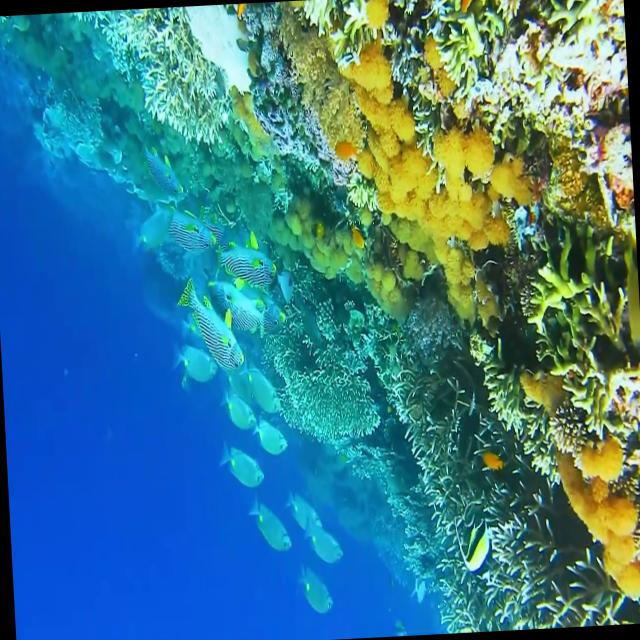fish: (175, 272, 245, 374), (126, 190, 220, 254), (212, 230, 278, 296), (246, 494, 294, 556), (456, 508, 496, 582), (220, 438, 265, 492), (294, 562, 337, 616)
